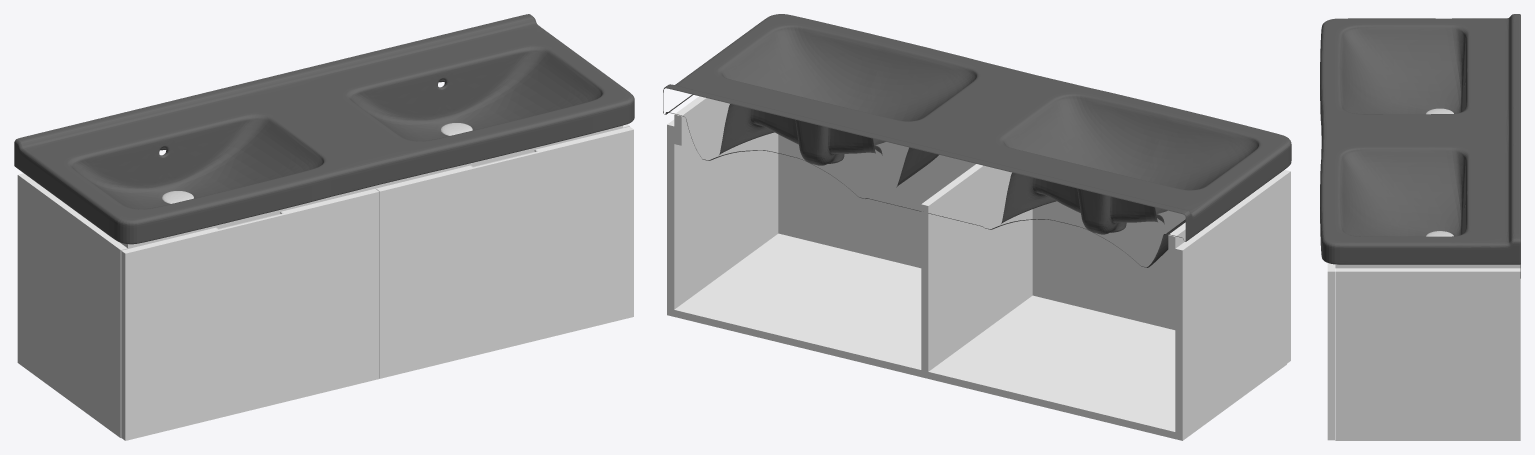
Rendered from AEC_48031.glb.
The picture shows the model from 3 angles, left to right: view 1: azimuth 30°, elevation 25°; view 2: azimuth 150°, elevation 25°; view 3: azimuth 270°, elevation 25°; orthographic projection. The views are drawn at different scales.
Parts seen in each view (by area): view 1: 0; view 2: 0; view 3: 0.
Boxes of the visible parts, x1,y1,x2,y2 form: 0: (14,14,634,440); 0: (663,14,1291,440); 0: (1320,14,1520,440).
Bounding box in the file's own units: 1.3 × 0.5402 × 0.485.
Materials: 1 (1 with a texture image).
